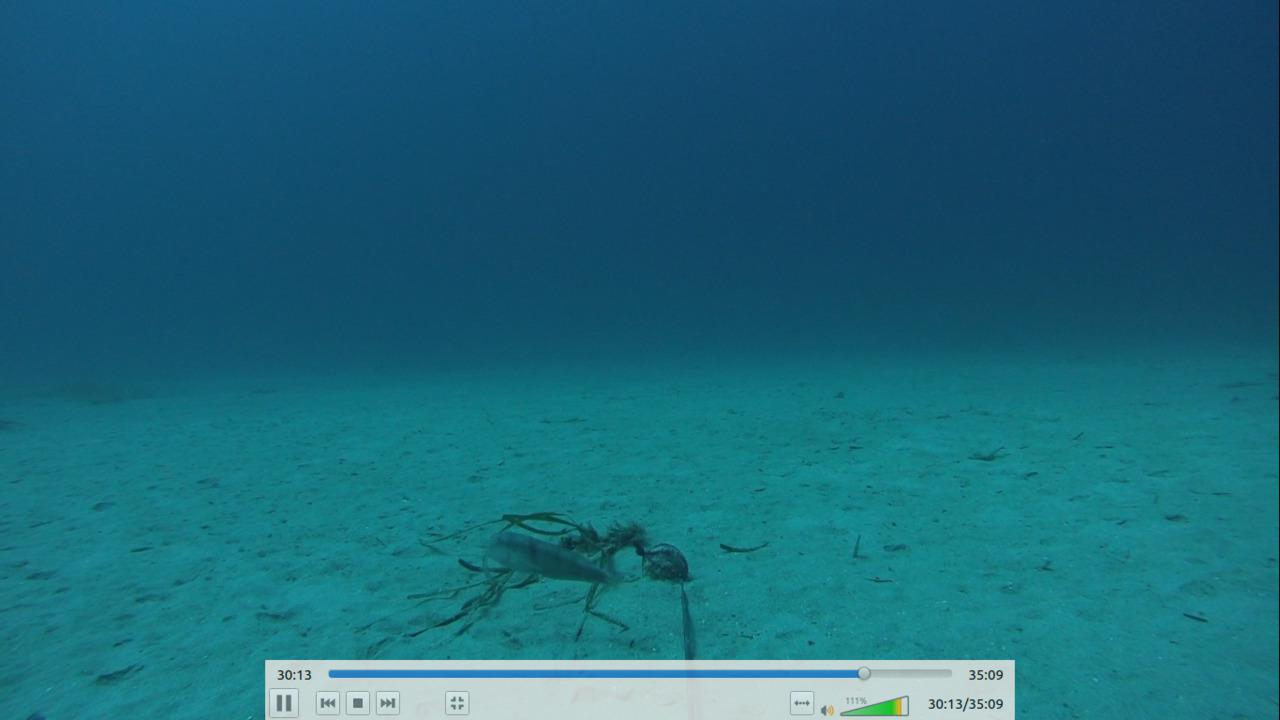raor: (476, 528, 625, 593)
